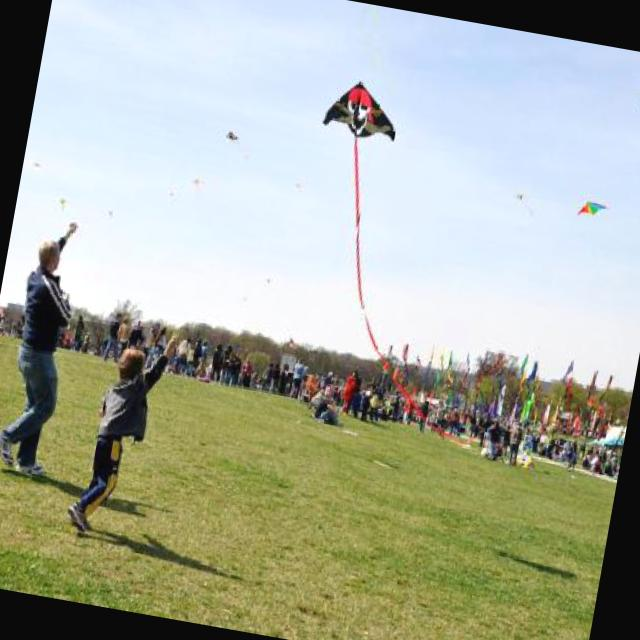Person: (48, 300, 591, 480), (62, 318, 178, 544), (0, 215, 88, 477), (362, 368, 388, 424), (311, 389, 347, 428), (286, 356, 308, 402), (113, 313, 135, 359), (504, 422, 526, 468), (338, 371, 360, 416), (127, 316, 148, 352), (446, 407, 462, 436), (388, 395, 401, 423), (434, 398, 444, 418), (377, 386, 385, 400)
